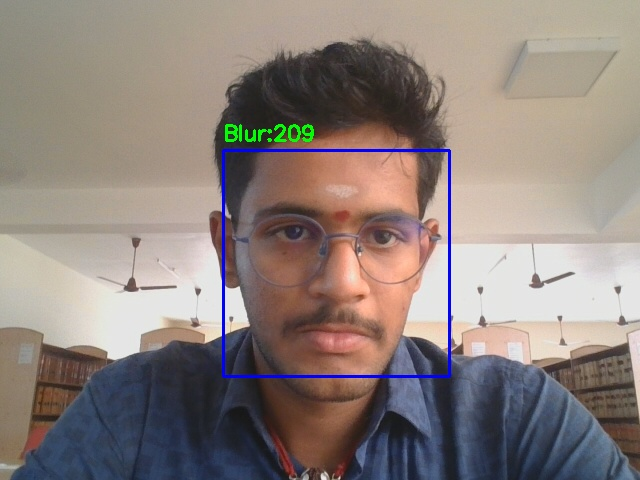real: (223, 150, 449, 376)
